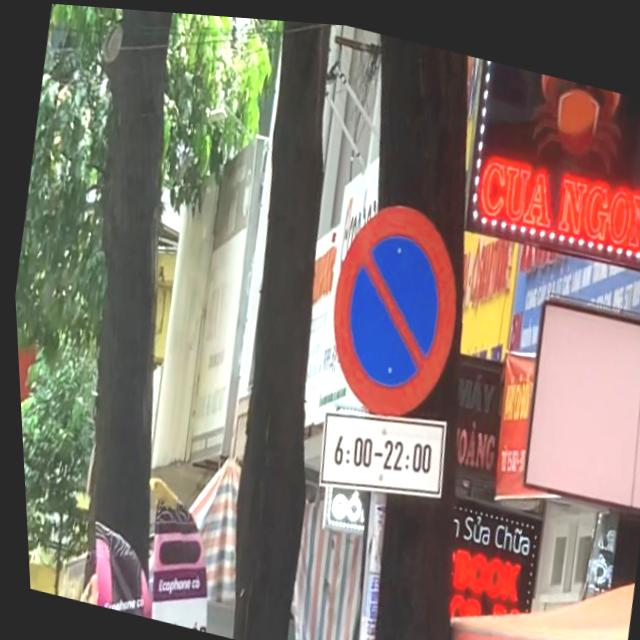Cam do xe: (308, 183, 474, 427)
